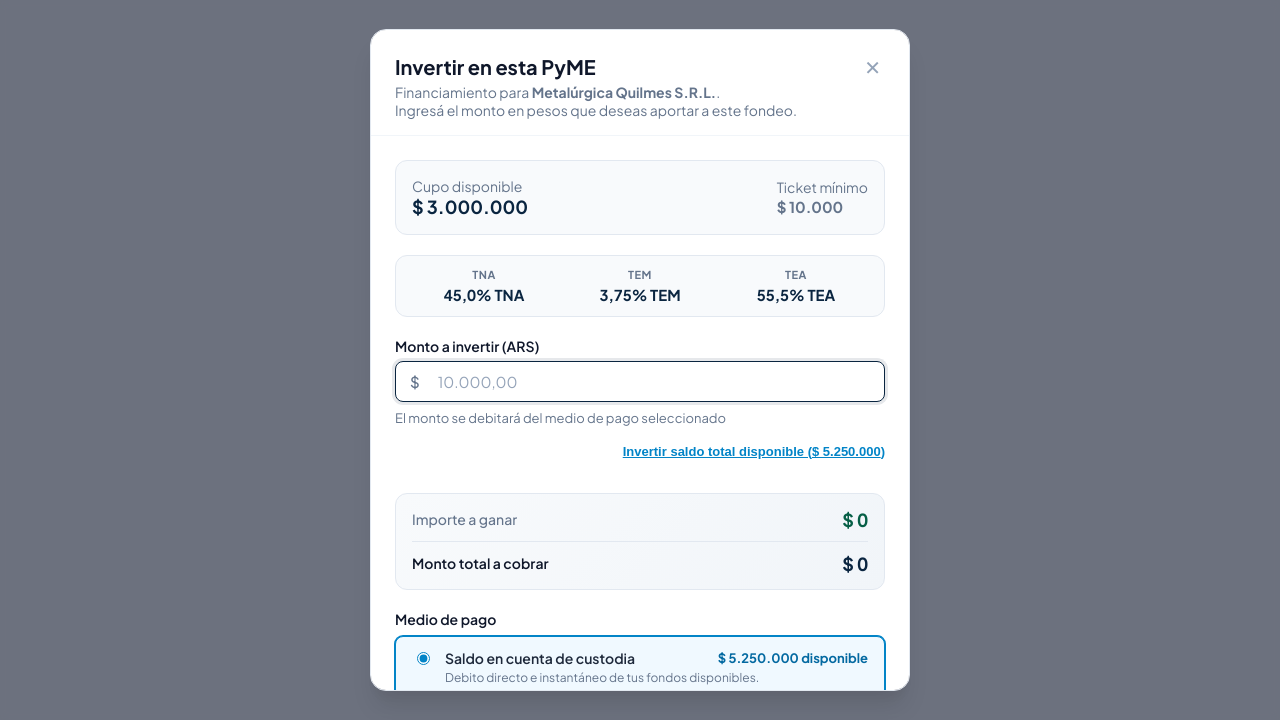
Test: InvestmentModal Checkout & BaaS Sandbox Flow (Issue #66) › Card Form Sandbox & Inline Validations › sandbox quick test button "Simular tarjeta rechazada" displays bank rejection alert on submit
Set amount
In the field with test id "investment-amount-input": (654, 381) x1=424 y1=362 x2=884 y2=401, type "80000"
(page scrolled)
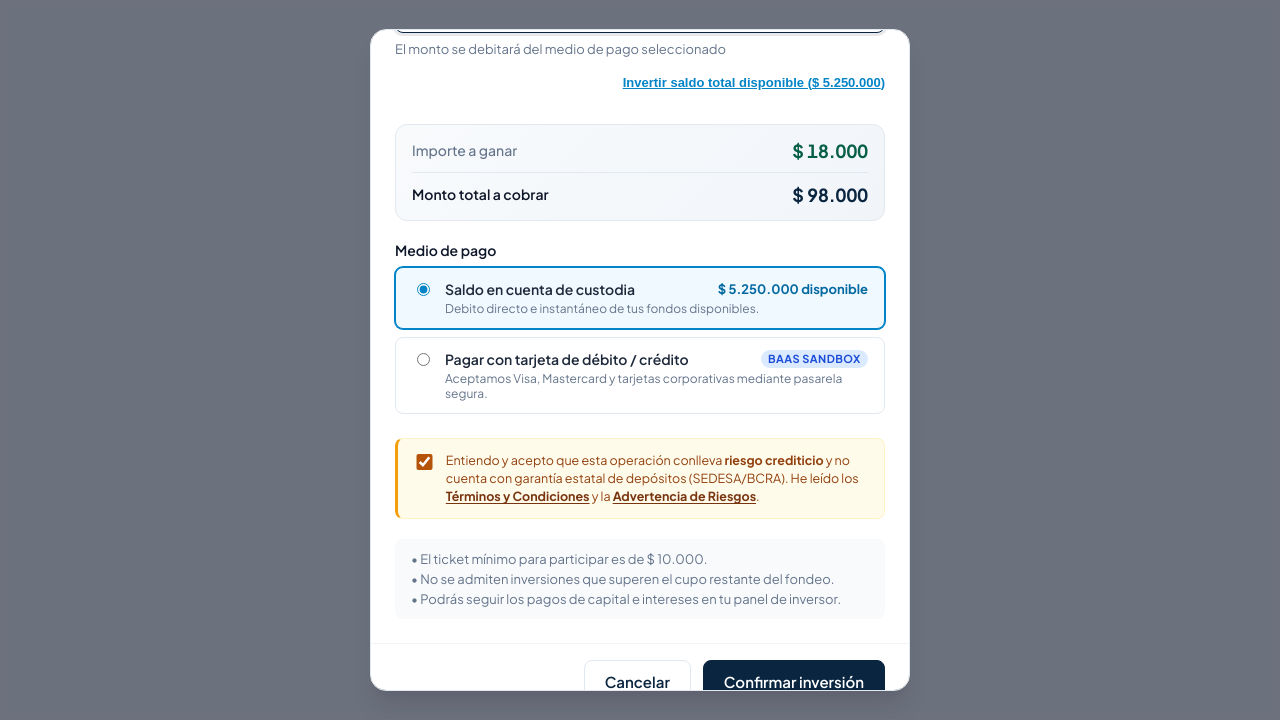
Switch to card and click simulated rejected card
Click the radio button with test id "payment-method-card": (424, 360) x1=417 y1=353 x2=430 y2=366
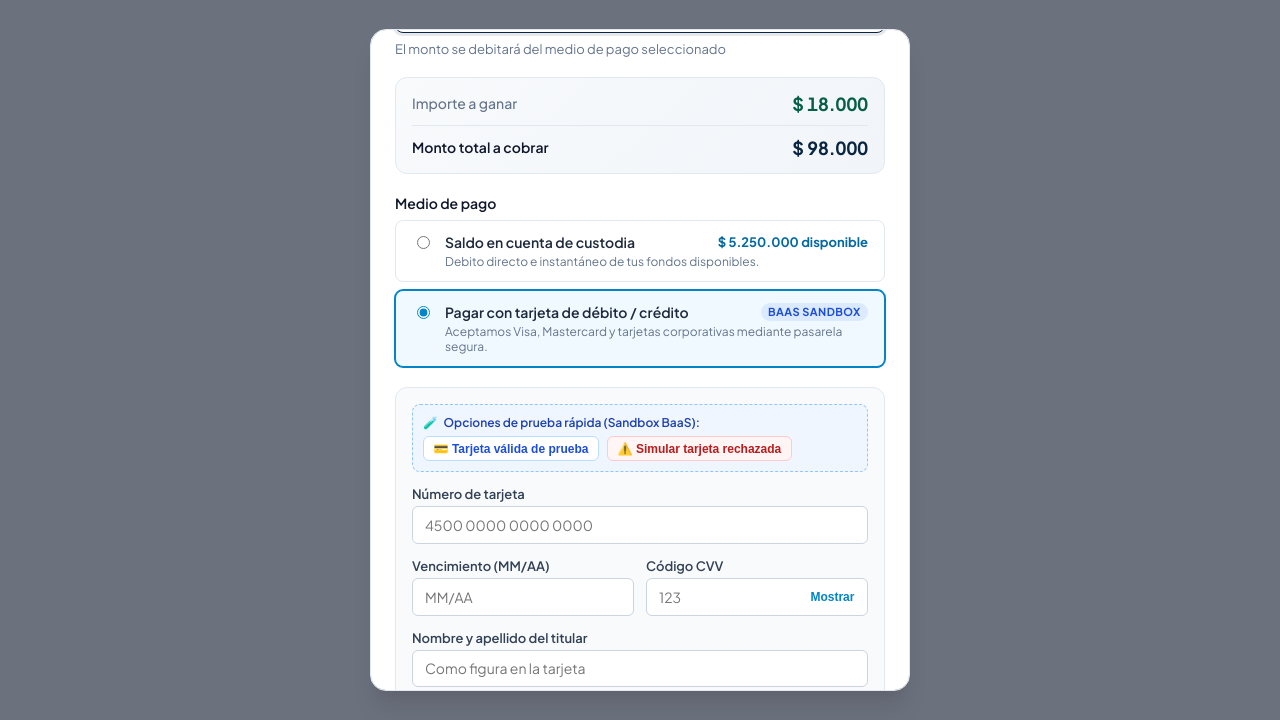
Click the button with test id "sandbox-rejected-card-button": (699, 449) x1=607 y1=436 x2=792 y2=461
(page scrolled)
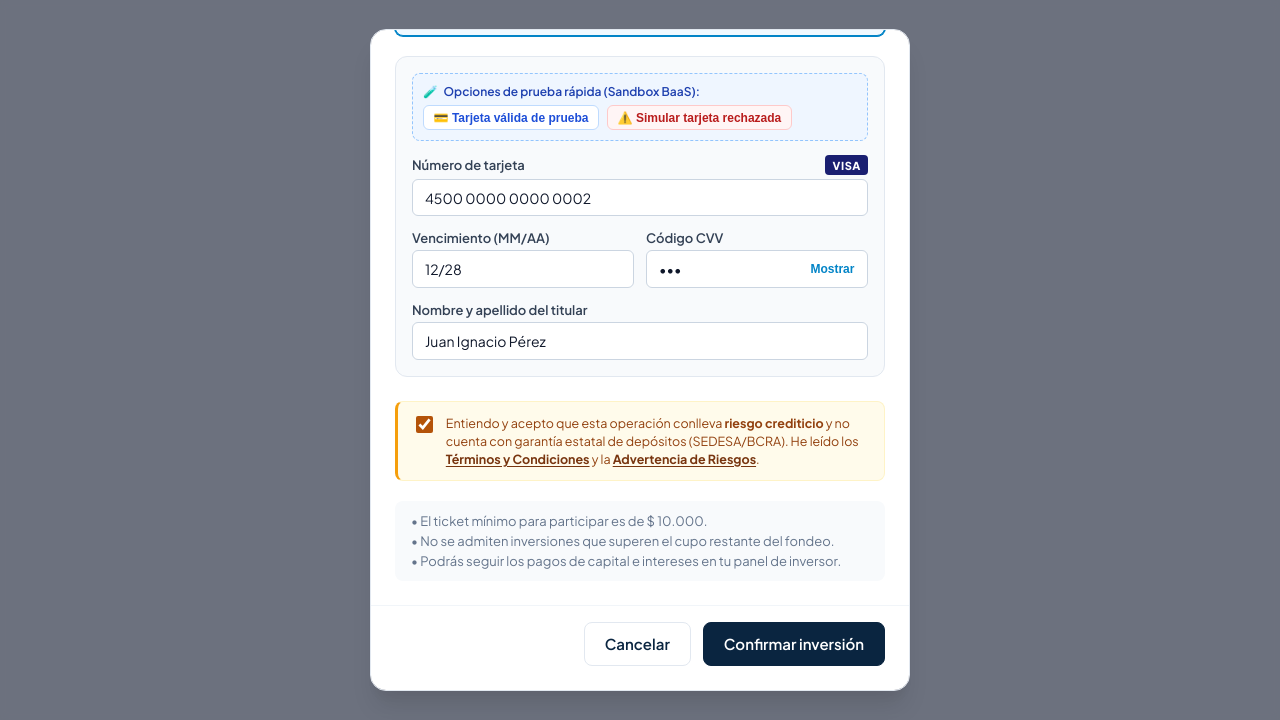
Expected: the field with test id "card-number-input" holds "4500 0000 0000 0002", x1=412 y1=179 x2=868 y2=216
Click submit
Click the button with test id "modal-confirm-button": (794, 644) x1=703 y1=622 x2=885 y2=666
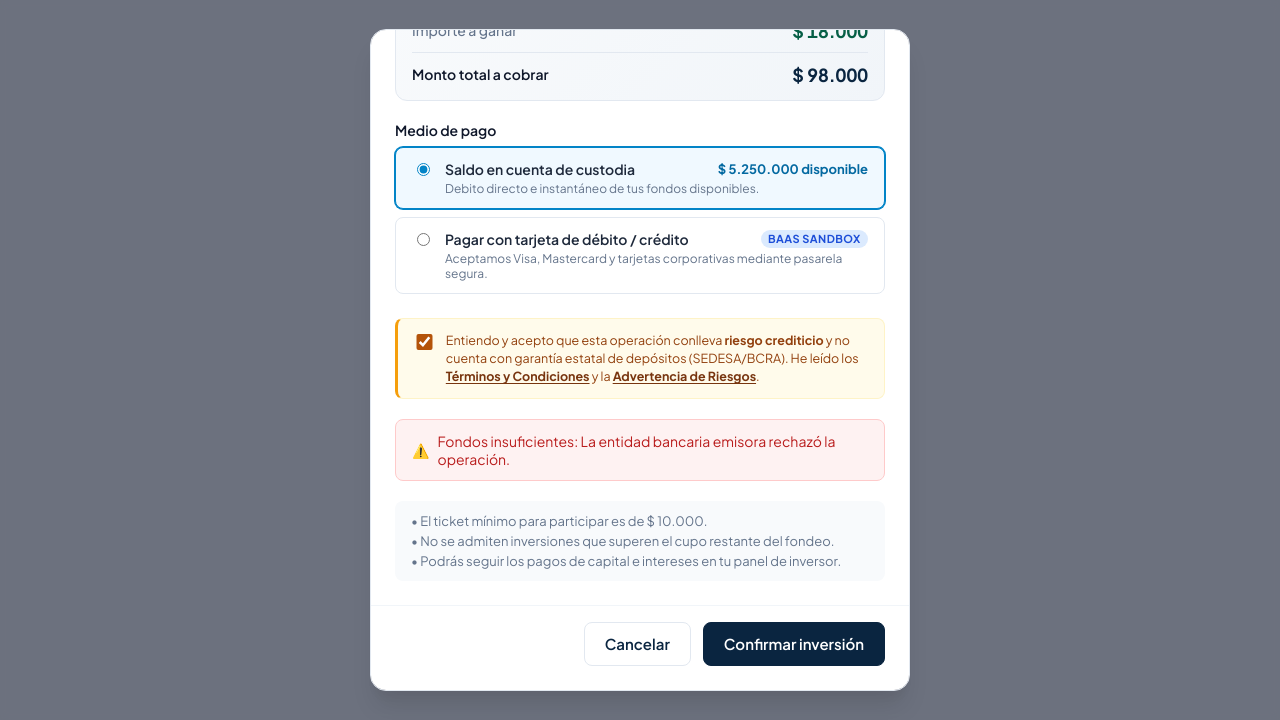
Expected: the message "⚠️ Fondos insuficientes: La entidad bancaria emisora rechazó la operación." is shown, x1=395 y1=418 x2=885 y2=480
Expected: the message with test id "modal-submit-error" shows "Fondos insuficientes: La entidad bancaria emisora rechazó la operación.", x1=438 y1=432 x2=836 y2=468
